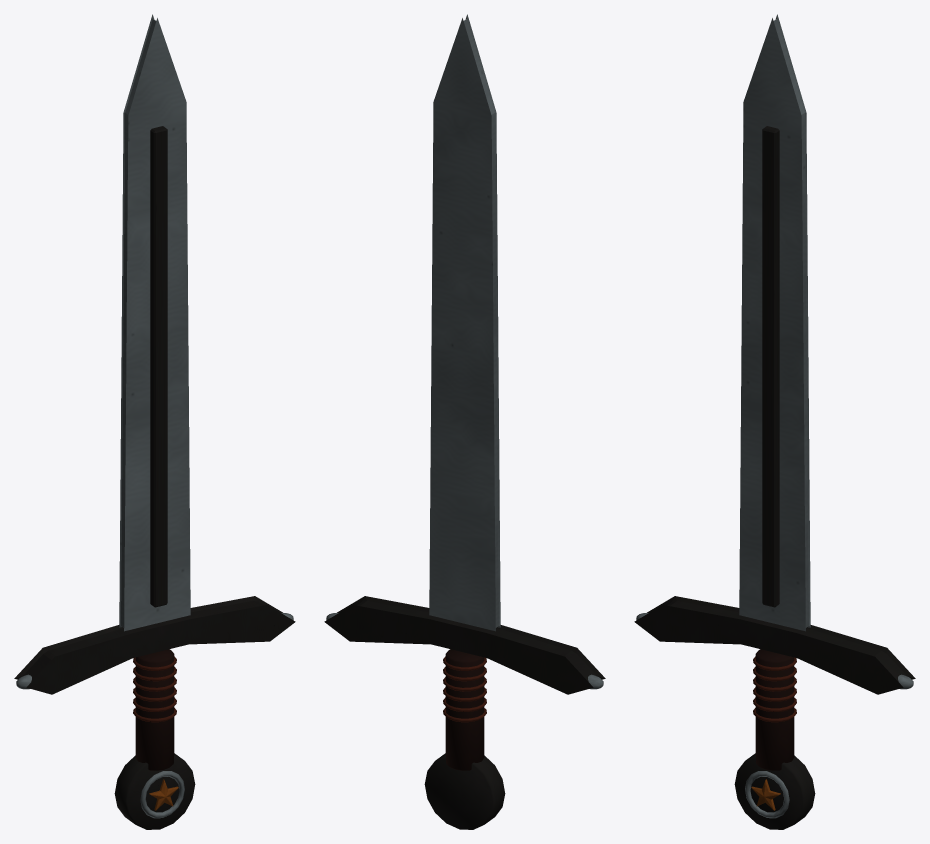
The model's file is medieval_sword_LOD1.glb.
3 views of the same model, side by side, from view 1: azimuth 30°, elevation 25°; view 2: azimuth 150°, elevation 25°; view 3: azimuth 330°, elevation 25° (orthographic).
Parts seen in each view (by area): view 1: Thick double edged blade, Flared forged crossguard, Central fuller, Wrapped grip, Decorated round pommel, Pommel inset bezel; view 2: Thick double edged blade, Flared forged crossguard, Decorated round pommel, Wrapped grip; view 3: Thick double edged blade, Flared forged crossguard, Central fuller, Wrapped grip, Decorated round pommel, Pommel inset bezel.
Boxes of the visible parts, <box> form: Thick double edged blade: <box>119,14,190,631</box>; Flared forged crossguard: <box>14,596,295,694</box>; Central fuller: <box>150,126,167,607</box>; Wrapped grip: <box>135,649,174,770</box>; Decorated round pommel: <box>114,753,195,829</box>; Pommel inset bezel: <box>140,771,184,818</box>; Thick double edged blade: <box>429,14,500,631</box>; Flared forged crossguard: <box>324,596,605,694</box>; Decorated round pommel: <box>424,753,505,829</box>; Wrapped grip: <box>445,649,484,770</box>; Thick double edged blade: <box>739,14,810,631</box>; Flared forged crossguard: <box>634,596,915,694</box>; Central fuller: <box>762,126,779,607</box>; Wrapped grip: <box>755,649,794,770</box>; Decorated round pommel: <box>734,753,815,829</box>; Pommel inset bezel: <box>745,771,789,818</box>.
Bounding box in the file's own units: 0.3942 × 1.1 × 0.055.
5 materials, 5 textured.
